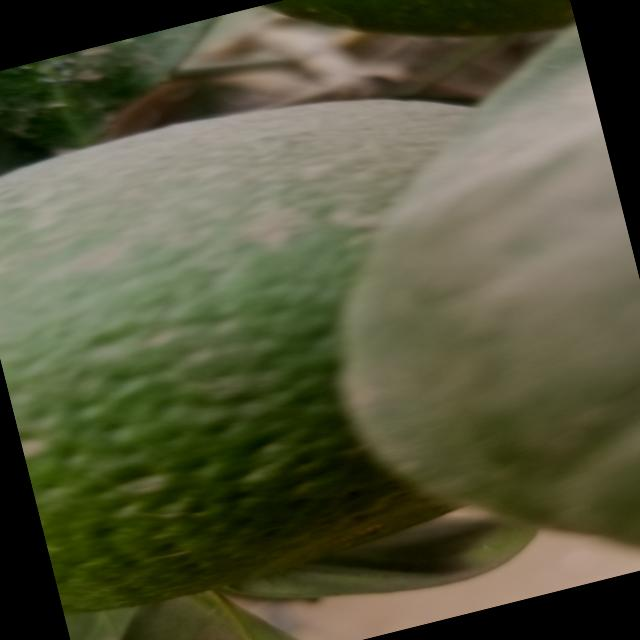Unripe: (0, 31, 627, 637)
